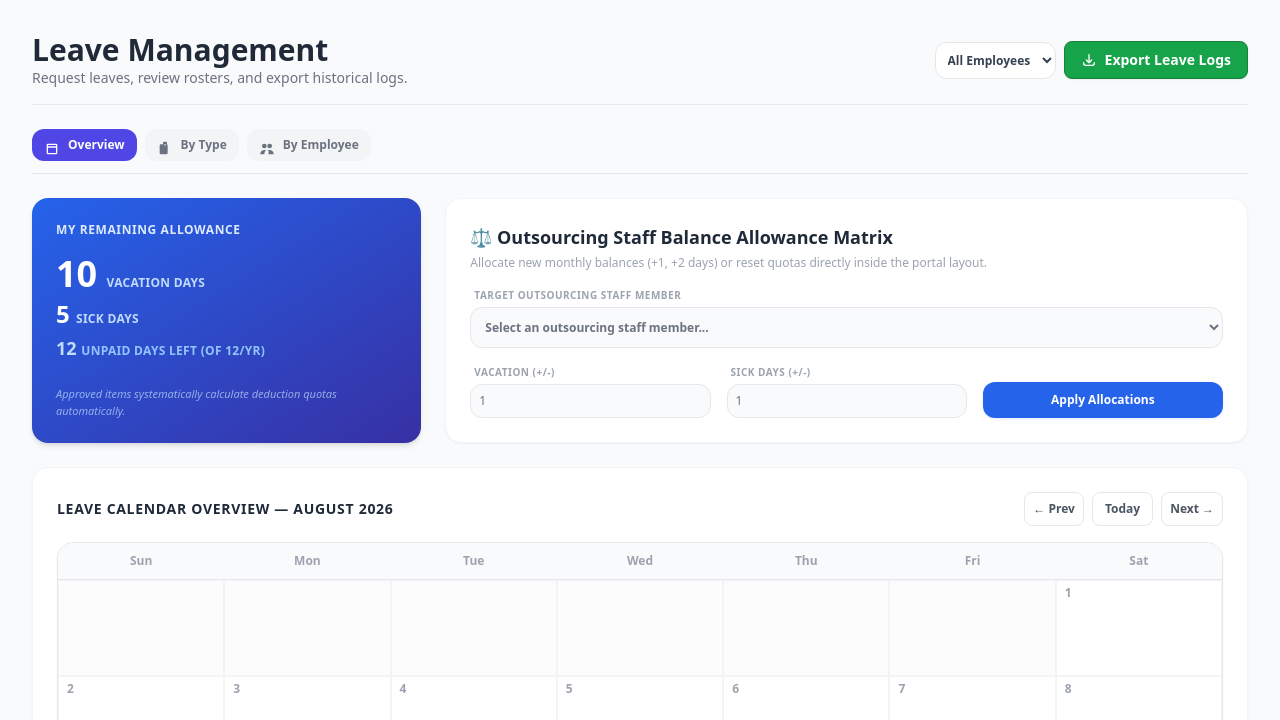
Test: LeaveView › the By Type tab sums approved days per leave type
Click the tab "By Type": (192, 145) [144,129,239,161]
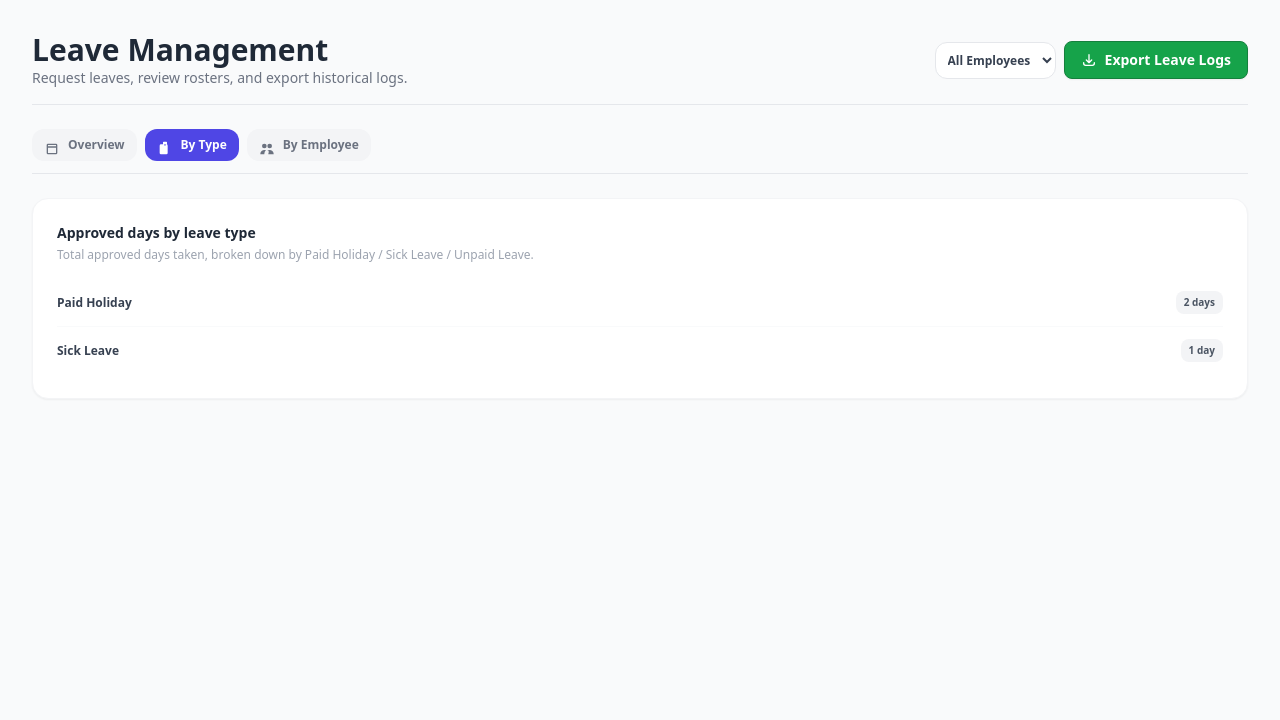
Expected: the text "Paid Holiday" is shown, [57,294,132,310]
Expected: the text "Sick Leave" is shown, [57,342,119,358]
Expected: the text "1 day" is shown, [1181,339,1223,362]
